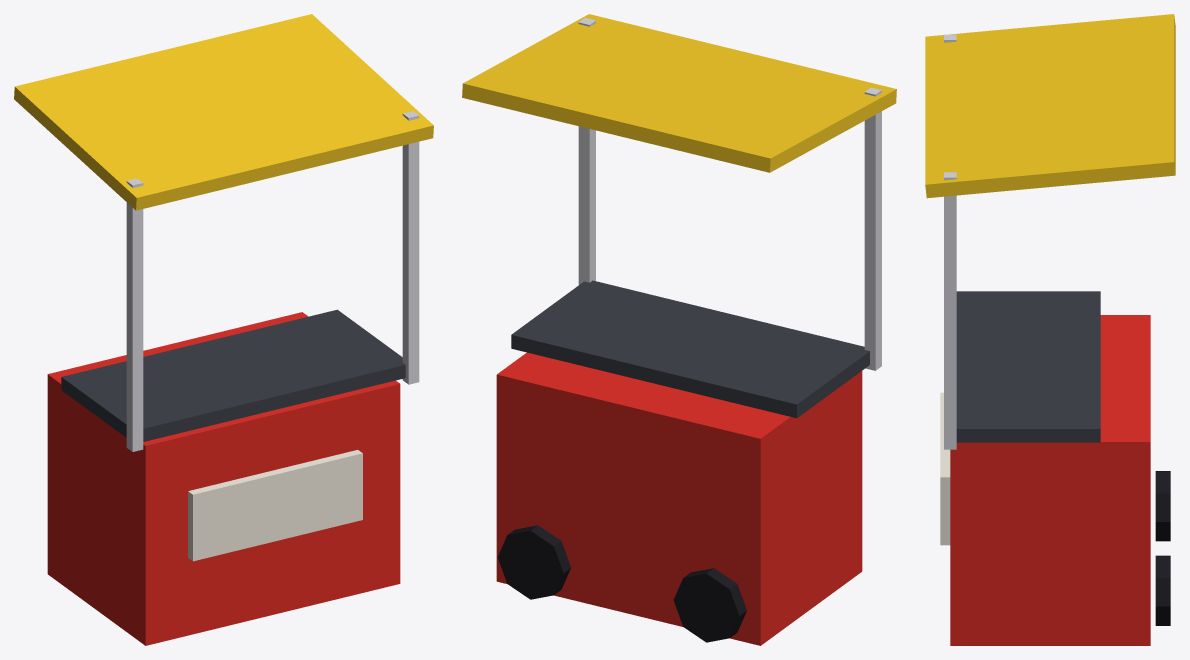
File: hot_dog_stand.glb
3 renders of one model, left to right at view 1: azimuth 30°, elevation 25°; view 2: azimuth 150°, elevation 25°; view 3: azimuth 270°, elevation 25°, orthographic. The views are drawn at different scales.
Visible parts, largest first — view 1: hot_dog_stand; view 2: hot_dog_stand; view 3: hot_dog_stand.
Boxes of the visible parts, x1,y1,x2,y2 form: hot_dog_stand: (14,14,433,645); hot_dog_stand: (462,14,896,645); hot_dog_stand: (925,14,1175,645).
Bounding box in the file's own units: 1.4 × 2.18 × 1.
